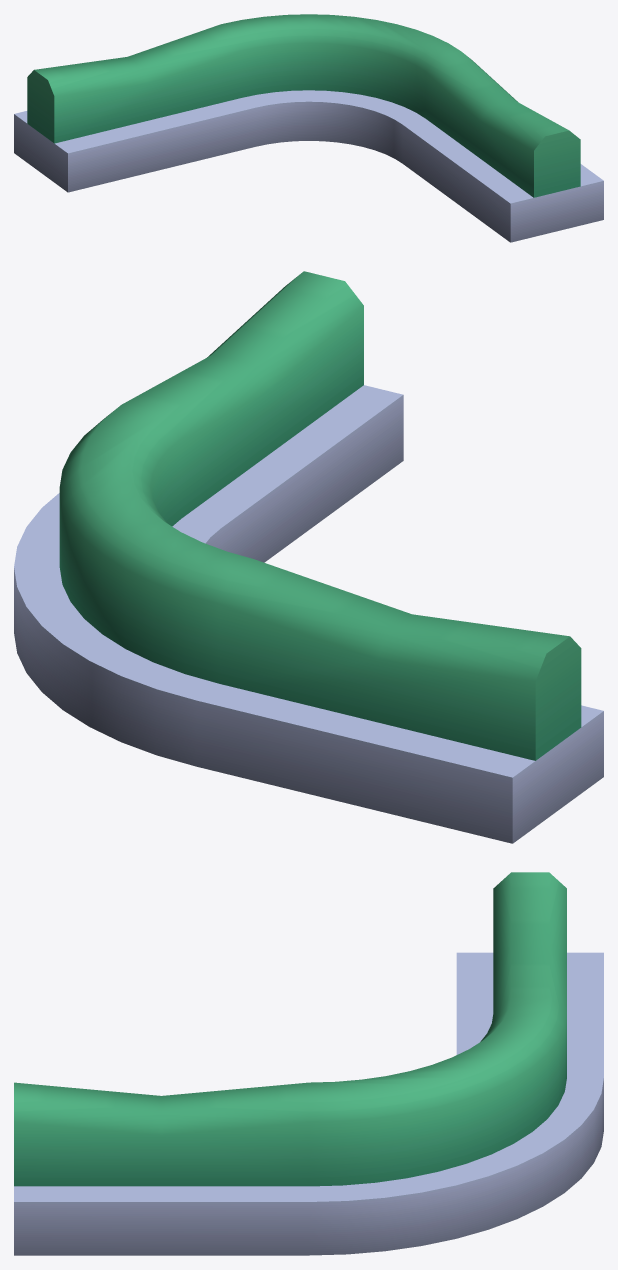
Rendered from hedge-curved.glb.
3 renders of one model, top to bottom at view 1: azimuth 30°, elevation 25°; view 2: azimuth 150°, elevation 25°; view 3: azimuth 270°, elevation 25°, orthographic. The views are drawn at different scales.
Visible parts, largest first — view 1: hedge-curved; view 2: hedge-curved; view 3: hedge-curved.
Boxes of the visible parts, left/top/right/bottom form: hedge-curved: left=14, top=14, right=603, bottom=242; hedge-curved: left=14, top=271, right=603, bottom=843; hedge-curved: left=14, top=872, right=603, bottom=1255.
Bounding box in the file's own units: 1 × 0.25 × 1.
1 material, 1 textured.
